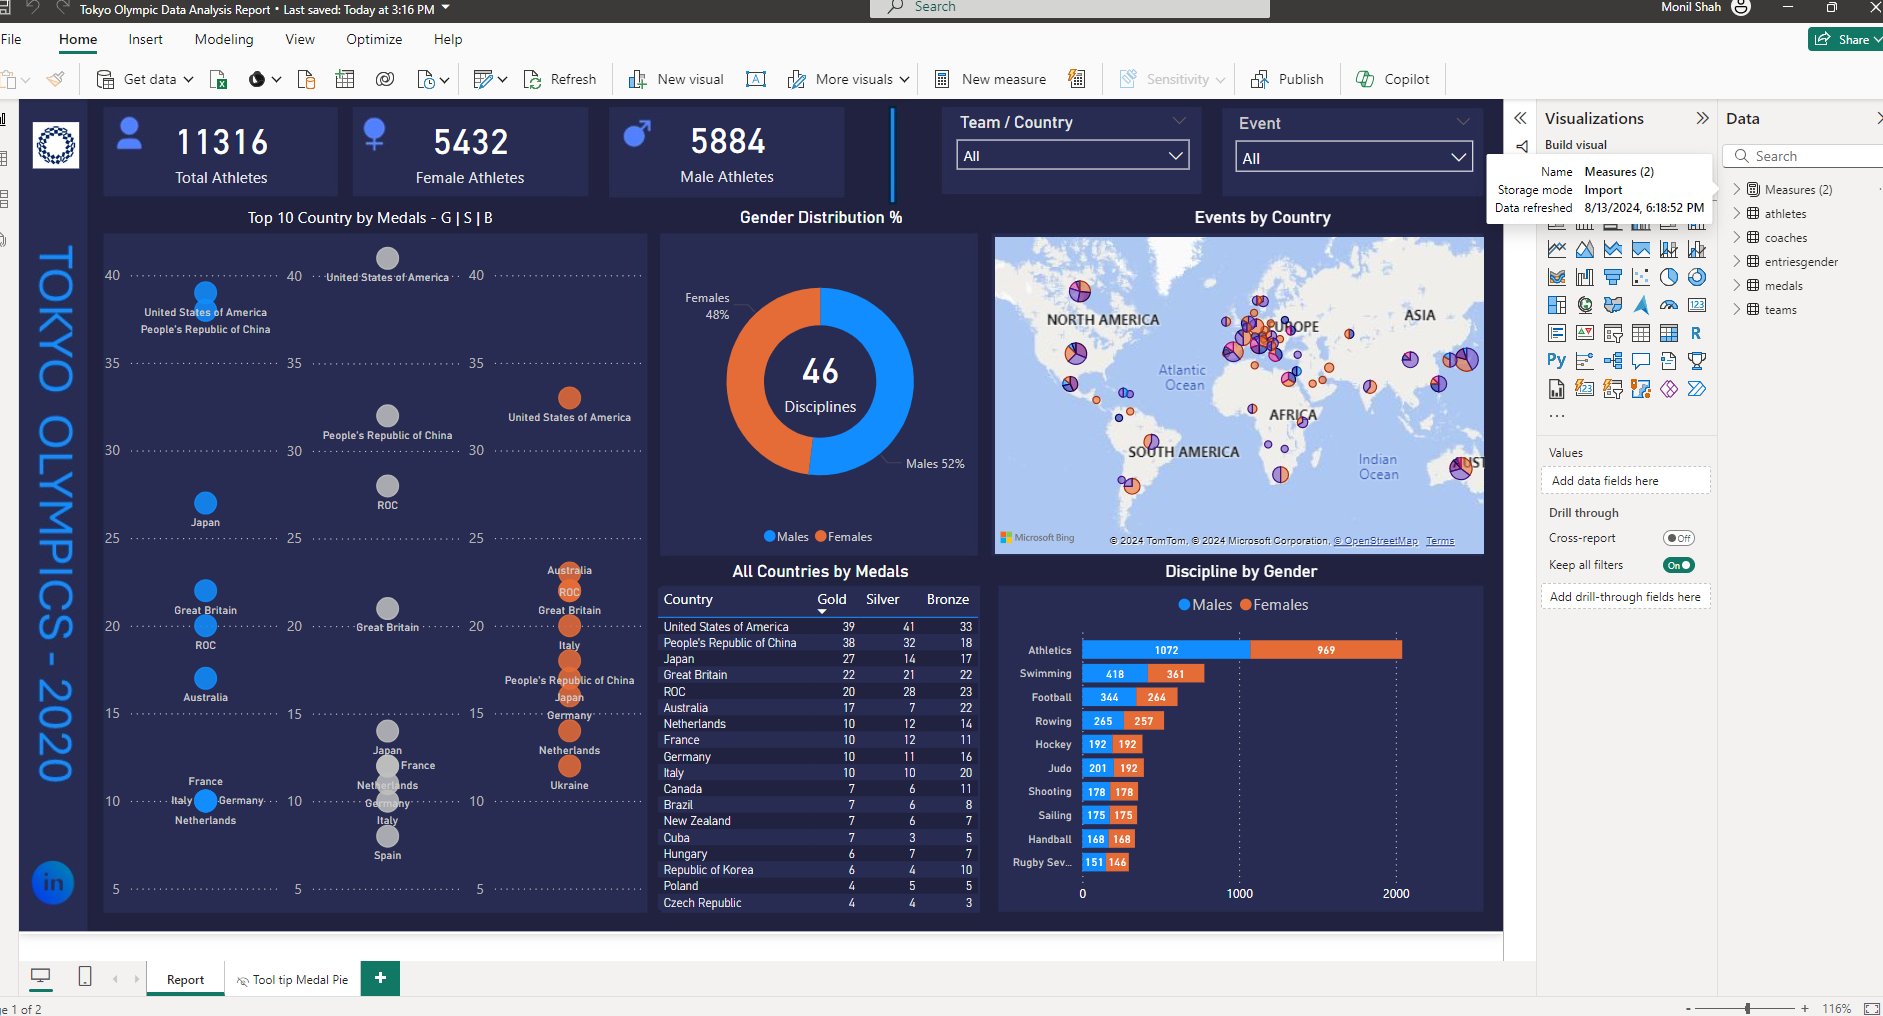

Layout of this report page (visuals, bound fields, positions):
{"tool":"powerbi","page":{"name":"Report","canvas":[1280,720],"ordinal":0},"visuals":[{"type":"card","fields":{"Values":["Measures (2).Total Athletes"]},"box":[75.8,5.8,197.5,75],"z":0},{"type":"card","fields":{"Values":["Measures (2).Female Athletes"]},"box":[291,5.8,196.6,75],"z":1000},{"type":"card","fields":{"Values":["Measures (2).Male Athletes"]},"box":[512.2,4.4,196.7,75.6],"z":2000},{"type":"donutChart","fields":{"Y":["Measures (2).Male Athletes","Measures (2).Female Athletes"]},"box":[552,119,278,276],"z":3000},{"type":"card","fields":{"Values":["Count(athletes.Discipline)"]},"box":[651,203,80,76],"z":4000},{"type":"map","fields":{"Category":["coaches.Country"],"Size":["CountNonNull(coaches.Name)"],"Series":["coaches.Event"]},"box":[836.7,114.2,431.7,284.2],"z":5000},{"type":"slicer","fields":{"Values":["medals.TeamCountry"]},"box":[799,7,221,75],"z":6000},{"type":"tableEx","fields":{"Values":["medals.TeamCountry","Sum(medals.Gold)","Sum(medals.Silver)","Sum(medals.Bronze)"]},"box":[545.2,416.2,299.5,287.6],"z":7000},{"type":"barChart","fields":{"Category":["entriesgender.Discipline"],"Y":["Measures (2).Male Athletes","Measures (2).Female Athletes"]},"box":[840,415.9,440,288.2],"z":8000},{"type":"textbox","box":[553,88.3,278,38],"z":9000},{"type":"scatterChart","fields":{"Y":["Sum(medals.Gold)"],"Series":["medals.TeamCountry"]},"box":[69,138,161,566],"z":10000},{"type":"scatterChart","fields":{"Series":["medals.TeamCountry"],"Y":["Sum(medals.Silver)"]},"box":[226,93,161,611],"z":11000},{"type":"scatterChart","fields":{"Series":["medals.TeamCountry"],"Y":["Sum(medals.Bronze)"]},"box":[383,138,161,566],"z":12000},{"type":"image","box":[6.7,13.3,50,54.2],"z":13000},{"type":"image","box":[0,644,58,60],"z":14000},{"type":"shape","box":[829.4,415.9,15.3,292.4],"z":15000},{"type":"shape","box":[1264.7,415.9,15.3,292.4],"z":16000},{"type":"textbox","box":[69.2,88.3,468.3,38.3],"z":17000},{"type":"textbox","box":[934.2,88.3,277.5,38.3],"z":18000},{"type":"textbox","box":[550,393.3,281.7,38.3],"z":19000},{"type":"slicer","fields":{"Values":["coaches.Event"]},"box":[1039.4,7.6,225.3,73.5],"z":20000},{"type":"textbox","box":[844.5,393.3,420.1,38.4],"z":21000}]}

Visuals, with their boxes on the page's 1280x720 design canvas (x1, y1, x2, y2). These are canvas units, not pixel positions in the 1883x1016 screenshot, which may show the page scaled, cropped or inside an application window:
card - Measures (2).Total Athletes: crop(76, 6, 273, 81)
card - Measures (2).Female Athletes: crop(291, 6, 488, 81)
card - Measures (2).Male Athletes: crop(512, 4, 709, 80)
donutChart - Measures (2).Male Athletes x Measures (2).Female Athletes: crop(552, 119, 830, 395)
card - Count(athletes.Discipline): crop(651, 203, 731, 279)
map - coaches.Country x CountNonNull(coaches.Name): crop(837, 114, 1268, 398)
slicer - medals.TeamCountry: crop(799, 7, 1020, 82)
tableEx - medals.TeamCountry x Sum(medals.Gold): crop(545, 416, 845, 704)
barChart - entriesgender.Discipline x Measures (2).Male Athletes: crop(840, 416, 1280, 704)
textbox: crop(553, 88, 831, 126)
scatterChart - Sum(medals.Gold) x medals.TeamCountry: crop(69, 138, 230, 704)
scatterChart - medals.TeamCountry x Sum(medals.Silver): crop(226, 93, 387, 704)
scatterChart - medals.TeamCountry x Sum(medals.Bronze): crop(383, 138, 544, 704)
image: crop(7, 13, 57, 68)
image: crop(0, 644, 58, 704)
shape: crop(829, 416, 845, 708)
shape: crop(1265, 416, 1280, 708)
textbox: crop(69, 88, 538, 127)
textbox: crop(934, 88, 1212, 127)
textbox: crop(550, 393, 832, 432)
slicer - coaches.Event: crop(1039, 8, 1265, 81)
textbox: crop(844, 393, 1265, 432)
